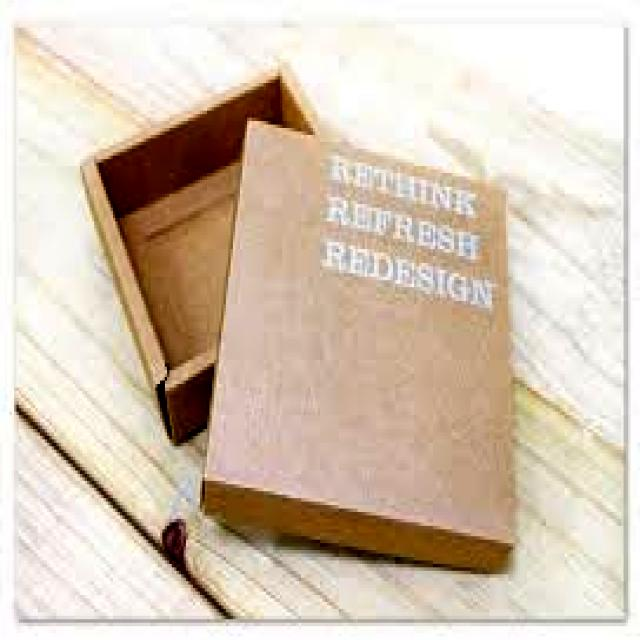Cardboard: (196, 108, 518, 581), (73, 53, 338, 452)
